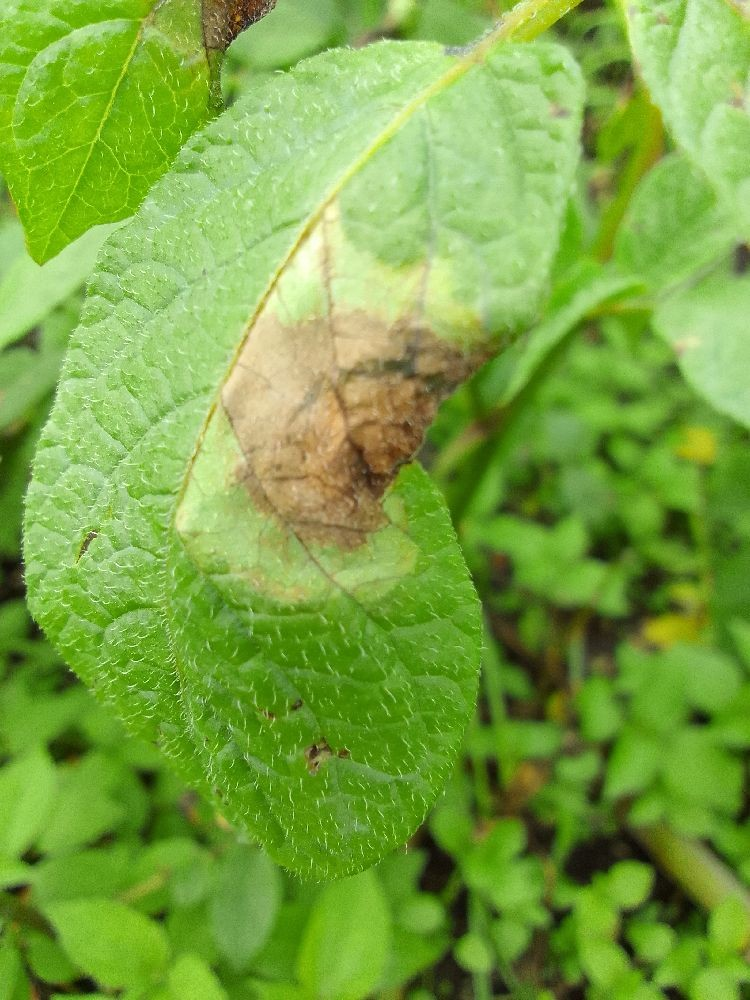late_blight: (438, 533, 744, 900), (202, 291, 508, 569), (372, 852, 611, 1000), (193, 0, 283, 61)
